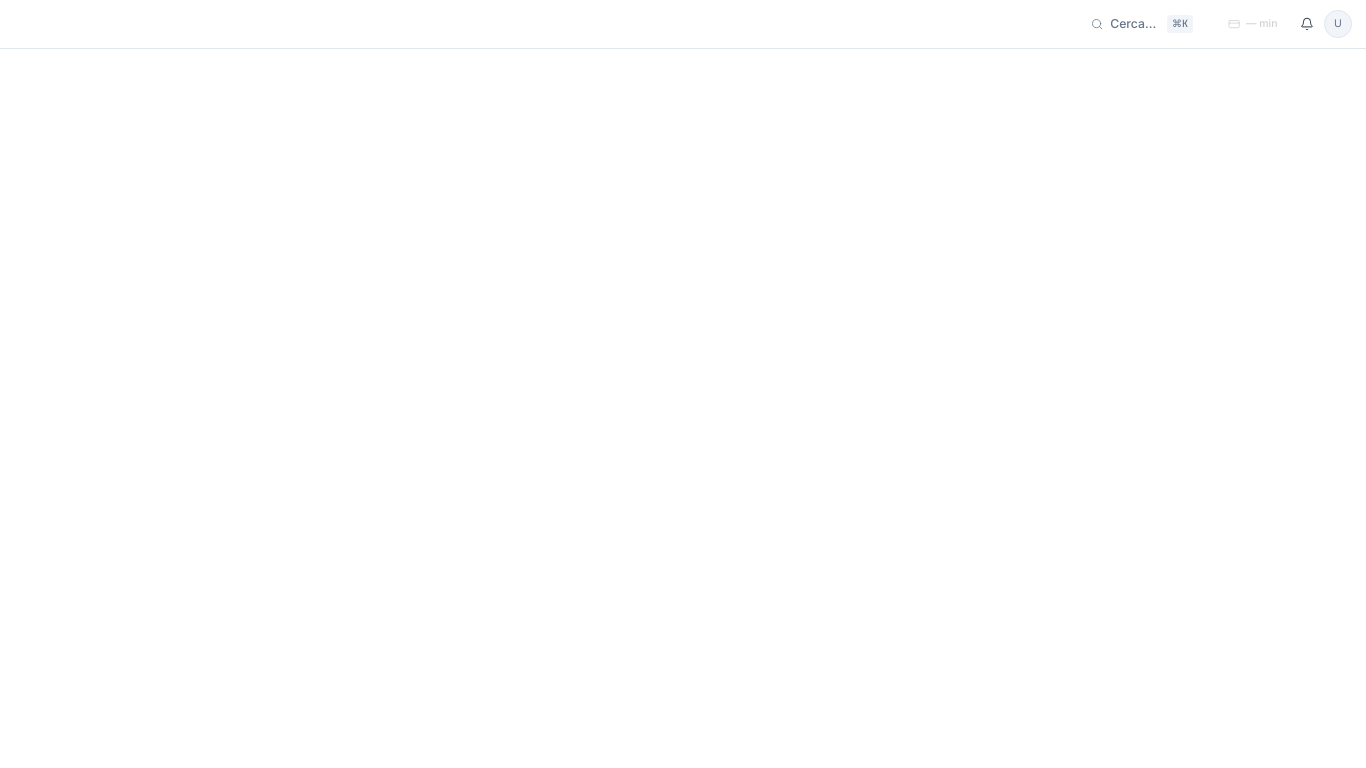
Test case: TopBar command palette integration › opens command palette on search button click
Click the button with test id "cmd-trigger": (1142, 24) [1081,10,1203,38]
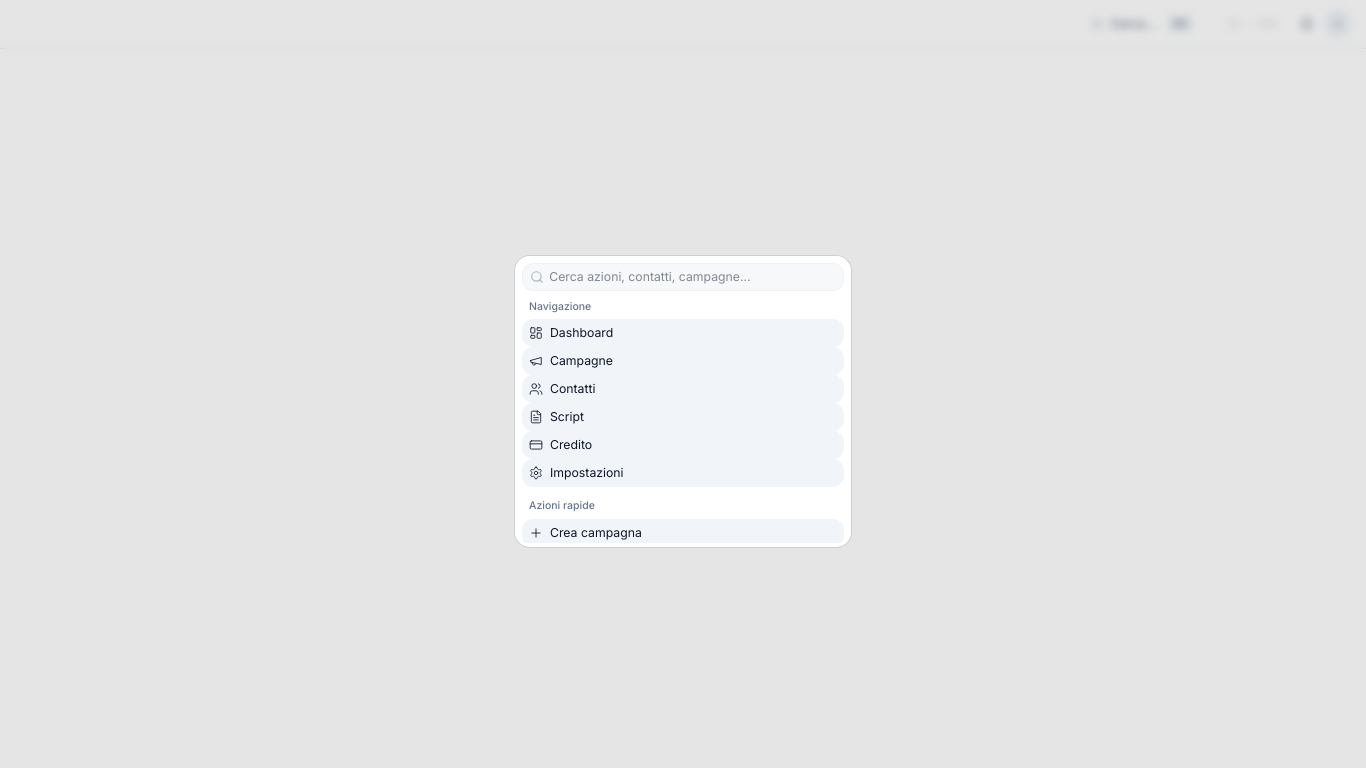
Now the dialog is shown, box [515,256,851,546]
